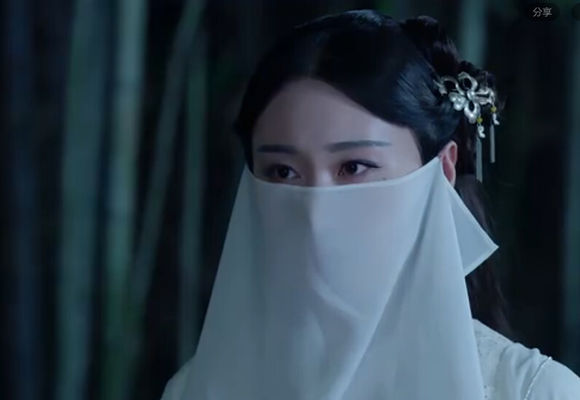face_mask: (249, 88, 421, 302)
